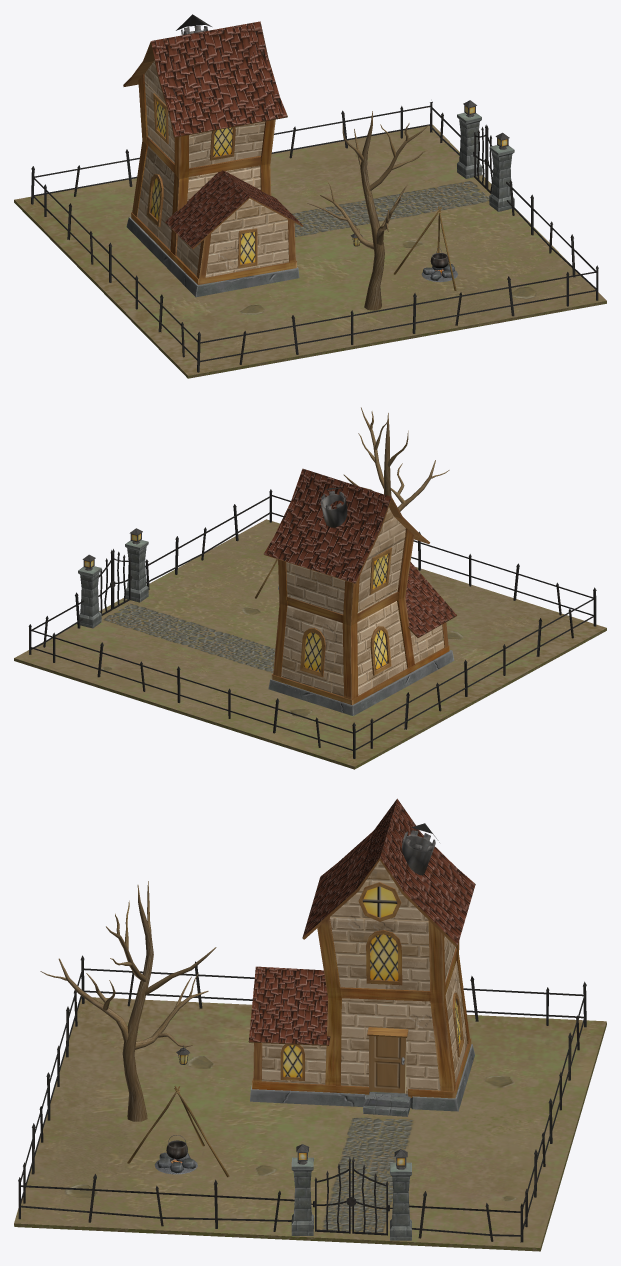
The model's file is fantasy_house.obj.
3 views of the same model, one above another, from view 1: azimuth 30°, elevation 25°; view 2: azimuth 150°, elevation 25°; view 3: azimuth 270°, elevation 25° (orthographic). The views are drawn at different scales.
Visible parts, largest first — view 1: ground_Plane, windows_and_roof_Cube, house_base_Cylinder.003, gate_Cube.008, house_wood_Cube.004, tree_Cylinder.050, gate_lights_Cube.032, fire_wood_Cube.021; view 2: ground_Plane, house_base_Cylinder.003, windows_and_roof_Cube, gate_Cube.008, house_wood_Cube.004, gate_lights_Cube.032, tree_Cylinder.050; view 3: ground_Plane, house_base_Cylinder.003, windows_and_roof_Cube, gate_Cube.008, house_wood_Cube.004, tree_Cylinder.050, gate_lights_Cube.032, fire_wood_Cube.021.
Part boxes in pixels (x1=…): ground_Plane: x1=14, y1=124, x2=606, y2=378; windows_and_roof_Cube: x1=123, y1=14, x2=303, y2=268; house_base_Cylinder.003: x1=126, y1=60, x2=299, y2=297; gate_Cube.008: x1=31, y1=101, x2=598, y2=372; house_wood_Cube.004: x1=131, y1=74, x2=296, y2=284; tree_Cylinder.050: x1=307, y1=111, x2=428, y2=310; gate_lights_Cube.032: x1=457, y1=100, x2=514, y2=211; fire_wood_Cube.021: x1=350, y1=206, x2=457, y2=290; ground_Plane: x1=14, y1=519, x2=606, y2=769; house_base_Cylinder.003: x1=268, y1=507, x2=454, y2=715; windows_and_roof_Cube: x1=264, y1=468, x2=456, y2=677; gate_Cube.008: x1=28, y1=489, x2=596, y2=758; house_wood_Cube.004: x1=271, y1=528, x2=449, y2=704; gate_lights_Cube.032: x1=78, y1=528, x2=148, y2=628; tree_Cylinder.050: x1=343, y1=407, x2=449, y2=511; ground_Plane: x1=14, y1=997, x2=606, y2=1251; house_base_Cylinder.003: x1=250, y1=860, x2=474, y2=1116; windows_and_roof_Cube: x1=248, y1=798, x2=475, y2=1080; gate_Cube.008: x1=18, y1=955, x2=586, y2=1242; house_wood_Cube.004: x1=252, y1=917, x2=471, y2=1098; tree_Cylinder.050: x1=40, y1=881, x2=216, y2=1121; gate_lights_Cube.032: x1=291, y1=1144, x2=411, y2=1240; fire_wood_Cube.021: x1=127, y1=1045, x2=229, y2=1177.
Bounding box in the file's own units: 40.9 × 19.78 × 40.31.
8 materials, 8 textured.
